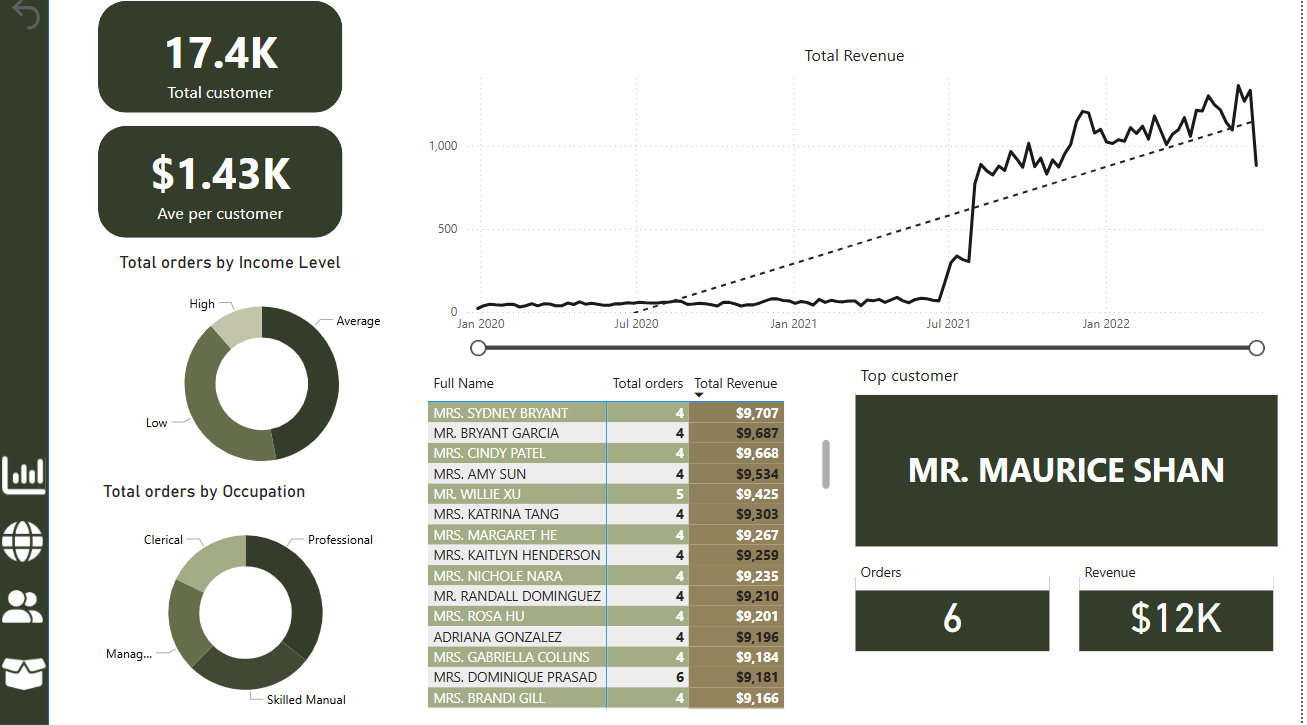

What the dashboard file says about the page in this screenshot:
{"tool":"powerbi","page":{"name":"Customer Dashboard","canvas":[1280,720],"ordinal":2},"visuals":[{"type":"shape","box":[0,0,50,720],"z":0},{"type":"shape","box":[98.2,8.6,240,110],"z":1000},{"type":"card","fields":{"Values":["Dax Measures.Total customer"]},"box":[114.3,0,208.6,135.7],"z":2000},{"type":"shape","box":[98.2,131.7,240,110],"z":3000},{"type":"card","fields":{"Values":["Dax Measures.ave per customer"]},"box":[114.3,118.6,208.6,135.7],"z":4000},{"type":"lineChart","title":"Total Revenue","fields":{"Y":["CountNonNull(Sales Data.CustomerKey)"],"Category":["Calendar Lookup.Start of Year Hierarchy.Start of Year","Calendar Lookup.Start of Year Hierarchy.Start of Month","Calendar Lookup.Start of Year Hierarchy.Start of Week","Calendar Lookup.Start of Year Hierarchy.Date"]},"box":[417.1,50,847.1,310],"z":5000},{"type":"donutChart","fields":{"Category":["Customer Lookup.Income Level"],"Y":["Dax Measures.Total orders"]},"box":[114.3,255.7,290,240],"z":6000},{"type":"donutChart","fields":{"Y":["Dax Measures.Total orders"],"Category":["Customer Lookup.Occupation"]},"box":[98.6,480,290,240],"z":7000},{"type":"pivotTable","fields":{"Rows":["Customer Lookup.Full Name"],"Values":["Dax Measures.Total orders","Dax Measures.Total Revenue"]},"box":[417.1,368.6,407.1,351.4],"z":8000},{"type":"card","fields":{"Values":["Min(Customer Lookup.Full Name)"]},"box":[841.4,394.3,414.3,150],"z":9000},{"type":"textbox","box":[841.4,360,438.6,35.7],"z":10000},{"type":"card","fields":{"Values":["Dax Measures.Total orders"]},"box":[841.4,574.3,190,72.9],"z":11000},{"type":"card","fields":{"Values":["Dax Measures.Total Revenue"]},"box":[1061.4,574.3,190,72.9],"z":12000},{"type":"textbox","box":[841.4,554.3,190,32.9],"z":13000},{"type":"textbox","box":[1061.4,554.3,190,32.9],"z":14000},{"type":"actionButton","box":[0,448.9,81.4,50.9],"z":15000},{"type":"actionButton","box":[0,515.4,111.9,47.9],"z":16000},{"type":"actionButton","box":[0,579.5,111.9,47.9],"z":17000},{"type":"actionButton","box":[0,643.6,111.9,50.9],"z":18000},{"type":"actionButton","box":[7.3,1.5,100.2,40.7],"z":19000}]}

Visuals, with their boxes on the page's 1280x720 design canvas (x1, y1, x2, y2). These are canvas units, not pixel positions in the 1307x725 screenshot, which may show the page scaled, cropped or inside an application window:
shape: (x1=0, y1=0, x2=50, y2=720)
shape: (x1=98, y1=9, x2=338, y2=119)
card - Dax Measures.Total customer: (x1=114, y1=0, x2=323, y2=136)
shape: (x1=98, y1=132, x2=338, y2=242)
card - Dax Measures.ave per customer: (x1=114, y1=119, x2=323, y2=254)
"Total Revenue" lineChart: (x1=417, y1=50, x2=1264, y2=360)
donutChart - Customer Lookup.Income Level x Dax Measures.Total orders: (x1=114, y1=256, x2=404, y2=496)
donutChart - Dax Measures.Total orders x Customer Lookup.Occupation: (x1=99, y1=480, x2=389, y2=720)
pivotTable - Customer Lookup.Full Name x Dax Measures.Total orders: (x1=417, y1=369, x2=824, y2=720)
card - Min(Customer Lookup.Full Name): (x1=841, y1=394, x2=1256, y2=544)
textbox: (x1=841, y1=360, x2=1280, y2=396)
card - Dax Measures.Total orders: (x1=841, y1=574, x2=1031, y2=647)
card - Dax Measures.Total Revenue: (x1=1061, y1=574, x2=1251, y2=647)
textbox: (x1=841, y1=554, x2=1031, y2=587)
textbox: (x1=1061, y1=554, x2=1251, y2=587)
actionButton: (x1=0, y1=449, x2=81, y2=500)
actionButton: (x1=0, y1=515, x2=112, y2=563)
actionButton: (x1=0, y1=580, x2=112, y2=627)
actionButton: (x1=0, y1=644, x2=112, y2=694)
actionButton: (x1=7, y1=2, x2=108, y2=42)
